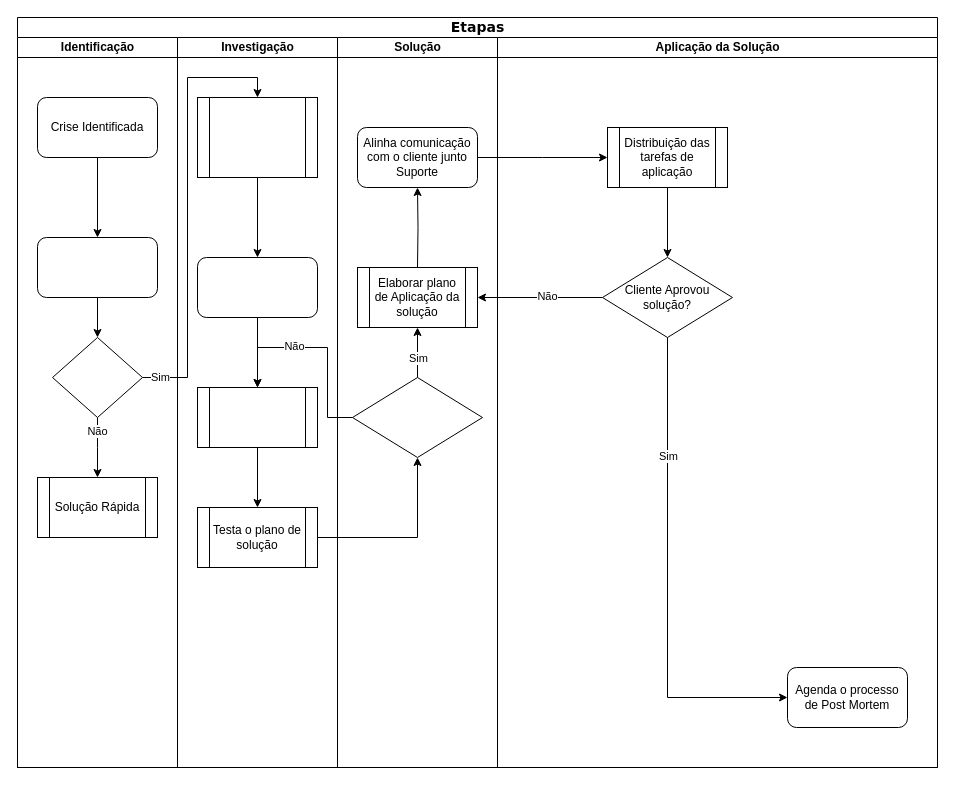
The diagram is 955 pixels wide and 785 high, and some of its shapes have lost their labels. The shapes that lost their labels are listed below. From the top down, each one's centre as x and y in pixels, then its label:
At (x=257, y=137): "Encontrar a Fonte da Crise: Infra, backend, frontend, mobile, reports".
At (x=97, y=267): "Comunica a gestão e verifica o impacto".
At (x=257, y=287): "De acordo com as fontes identificadas, selecionar pessoas para a Warrom".
At (x=97, y=377): "Alto Impacto?".
At (x=257, y=417): "Elaborar plano de Ação para solução da crise".
At (x=417, y=417): "Plano foi efetivo?".
